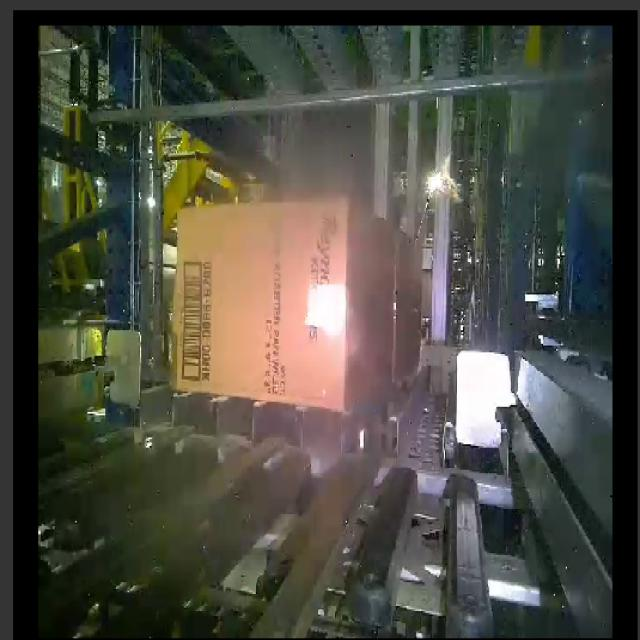box: (175, 194, 350, 414)
